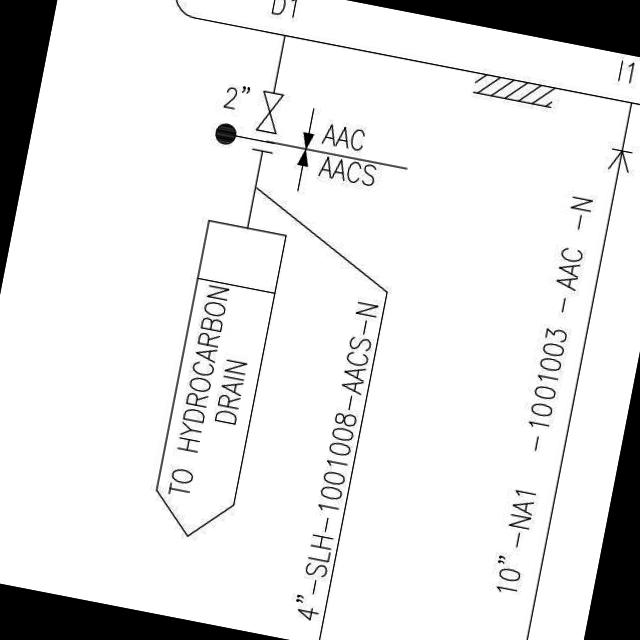GV: (250, 82, 288, 136)
